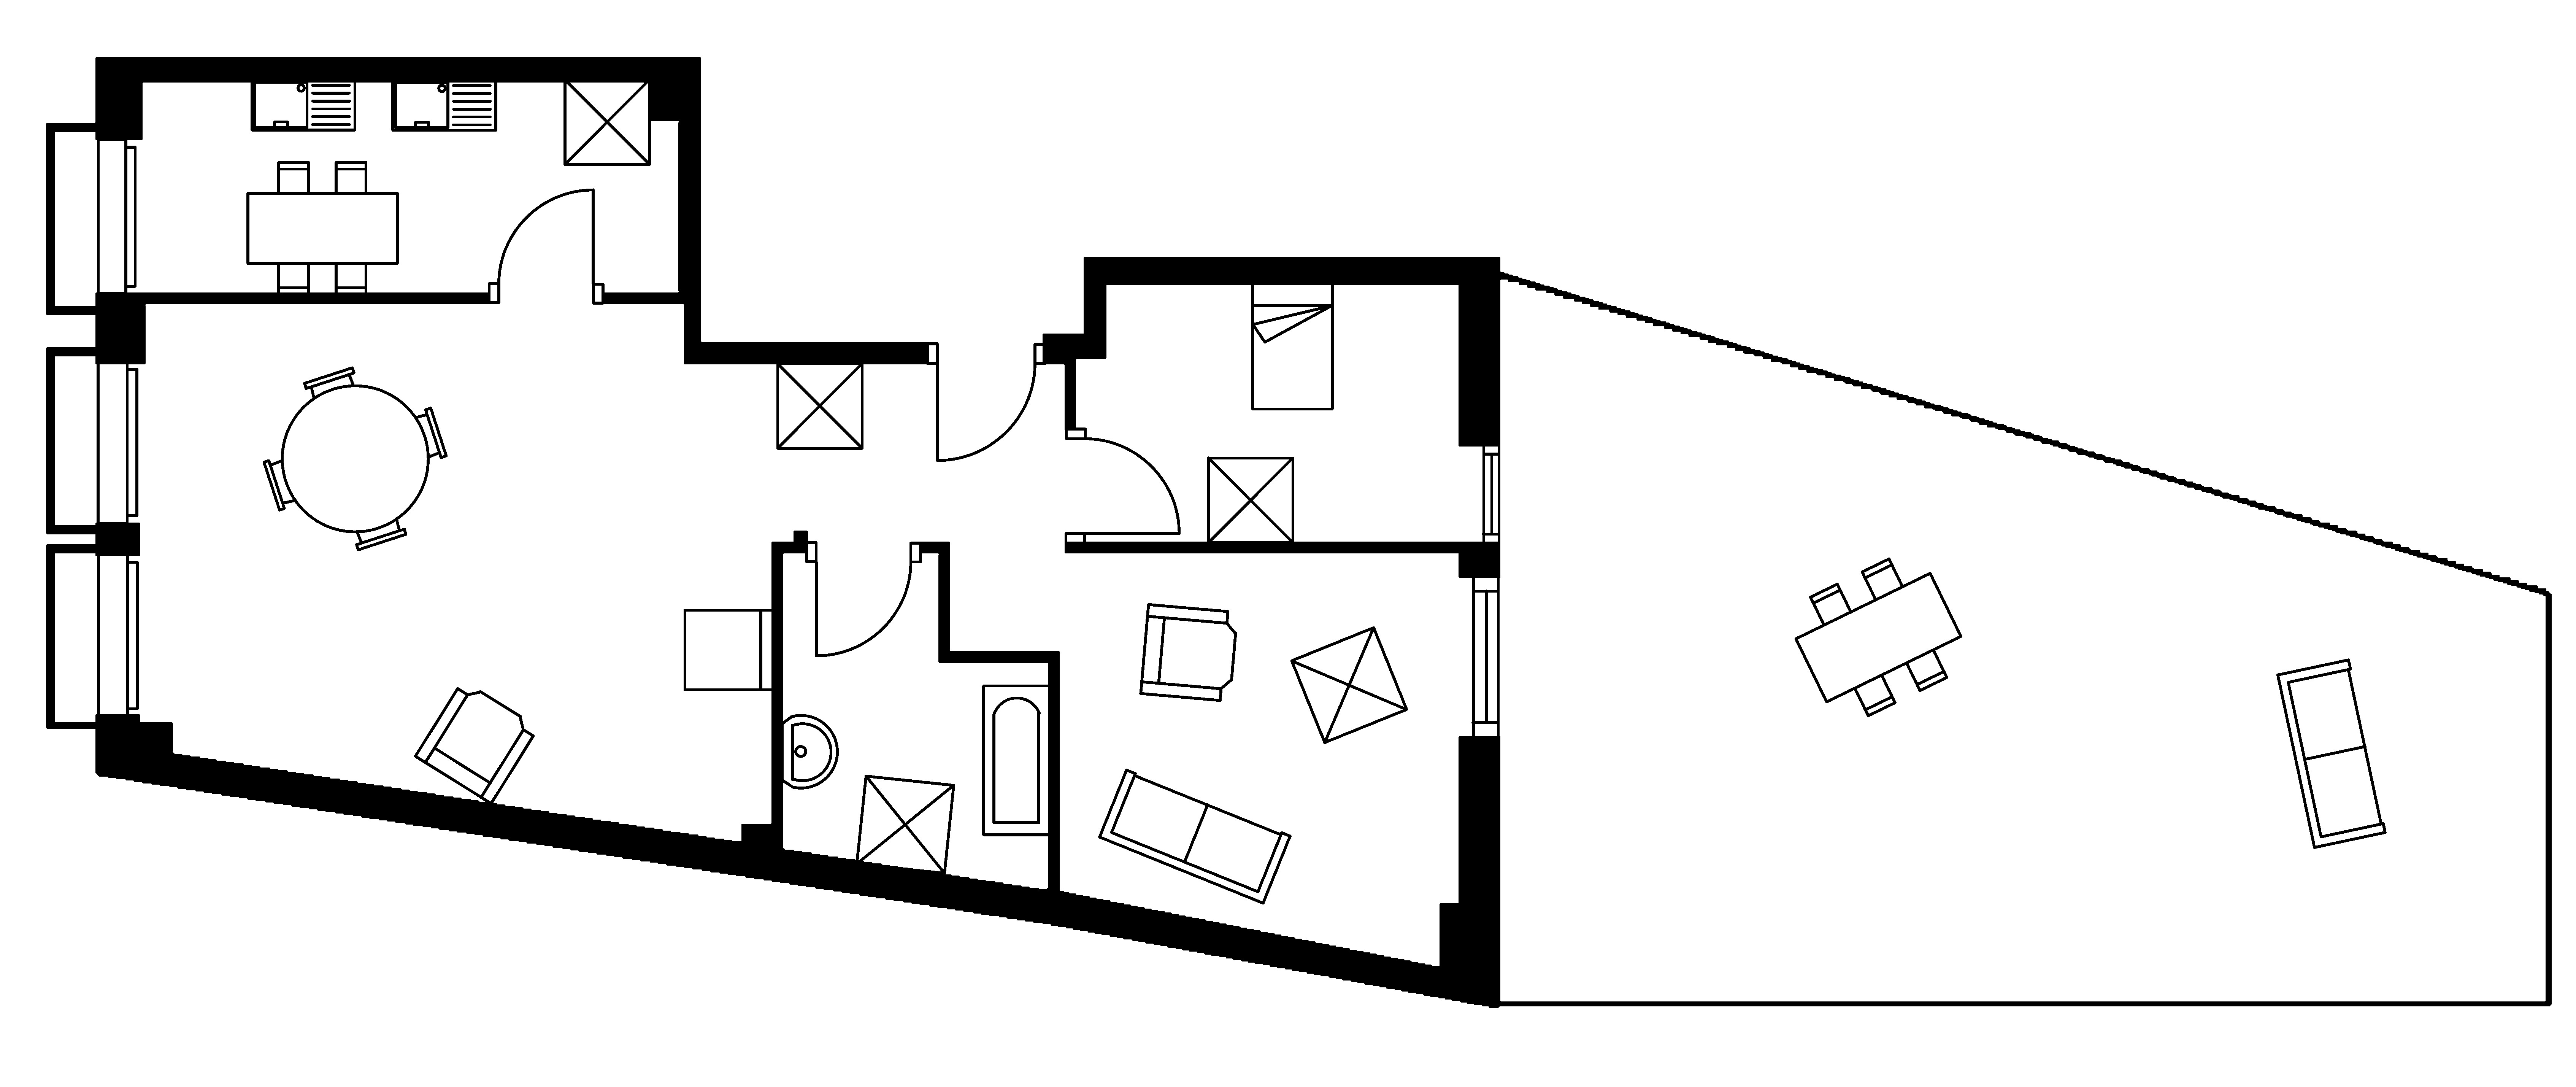armchair: (414, 686, 536, 806), (1138, 602, 1237, 702)
bed: (1250, 281, 1334, 411)
coffee_table: (1290, 625, 1408, 745), (854, 773, 954, 875), (562, 77, 651, 166), (775, 362, 864, 451), (1206, 456, 1295, 544)
dining_table: (1794, 557, 1962, 717), (246, 160, 399, 296)
large_sofa: (1097, 768, 1291, 904), (2275, 658, 2387, 849)
round_table: (261, 365, 448, 551)
sink: (250, 77, 356, 132), (391, 77, 498, 132)
small_sink: (780, 714, 838, 789)
small_sofa: (682, 608, 774, 691)
tub: (981, 684, 1051, 837)
